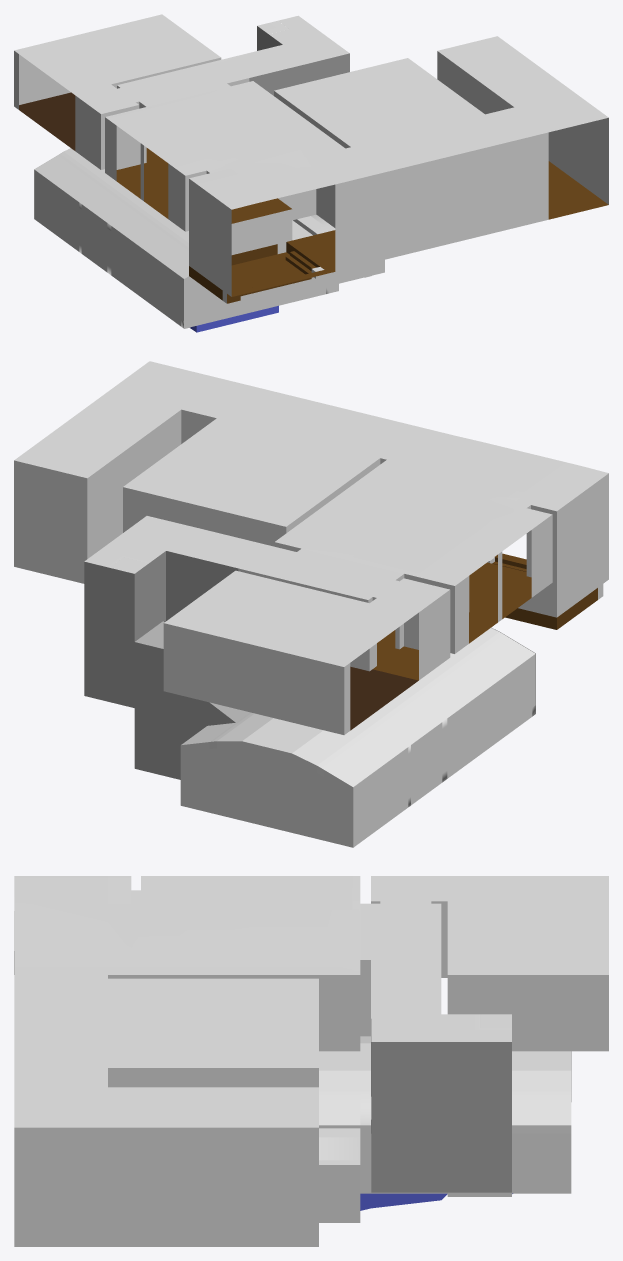
Rendered from new_journey_home-cleanedupfbx.fbx.
The picture shows the model from 3 angles, top to bottom: view 1: azimuth 30°, elevation 25°; view 2: azimuth 150°, elevation 25°; view 3: azimuth 270°, elevation 25°; orthographic projection. The views are drawn at different scales.
Visible parts, largest first — view 1: Roof, main wallway, pool, Entry hall.008, entry hall, the pit, sleep room, hallway, stairs to pool, movie room; view 2: Roof, pool, stairs to pool, sleep room, entry hall, Entry hall.008, main wallway, movie room, hallway, beam.005, the pit; view 3: Roof, entry hall, stairs to pool, pool, sleep room, movie room, Entry hall.008, hallway.
Boxes of the visible parts, x1=… form: Roof: x1=14, y1=14, x2=608, y2=209; main wallway: x1=189, y1=132, x2=548, y2=296; pool: x1=34, y1=148, x2=384, y2=332; Entry hall.008: x1=105, y1=117, x2=335, y2=254; entry hall: x1=437, y1=51, x2=608, y2=219; the pit: x1=189, y1=240, x2=334, y2=303; sleep room: x1=14, y1=51, x2=221, y2=150; hallway: x1=75, y1=78, x2=310, y2=232; stairs to pool: x1=249, y1=26, x2=349, y2=95; movie room: x1=274, y1=91, x2=350, y2=148; Roof: x1=14, y1=361, x2=608, y2=666; pool: x1=180, y1=628, x2=535, y2=847; stairs to pool: x1=84, y1=551, x2=238, y2=779; sleep room: x1=163, y1=623, x2=418, y2=734; entry hall: x1=14, y1=410, x2=181, y2=583; Entry hall.008: x1=274, y1=505, x2=556, y2=653; main wallway: x1=557, y1=473, x2=608, y2=617; movie room: x1=123, y1=409, x2=386, y2=546; hallway: x1=238, y1=568, x2=450, y2=680; beam.005: x1=180, y1=741, x2=353, y2=847; the pit: x1=487, y1=553, x2=603, y2=629; Roof: x1=14, y1=876, x2=608, y2=1127; entry hall: x1=14, y1=1127, x2=318, y2=1246; stairs to pool: x1=371, y1=1019, x2=511, y2=1192; pool: x1=319, y1=1036, x2=571, y2=1222; sleep room: x1=441, y1=901, x2=608, y2=1051; movie room: x1=108, y1=1068, x2=318, y2=1087; Entry hall.008: x1=108, y1=975, x2=360, y2=1051; hallway: x1=360, y1=901, x2=441, y2=1036.
Size of the model in its own units: 2542 by 1208 by 2540.
